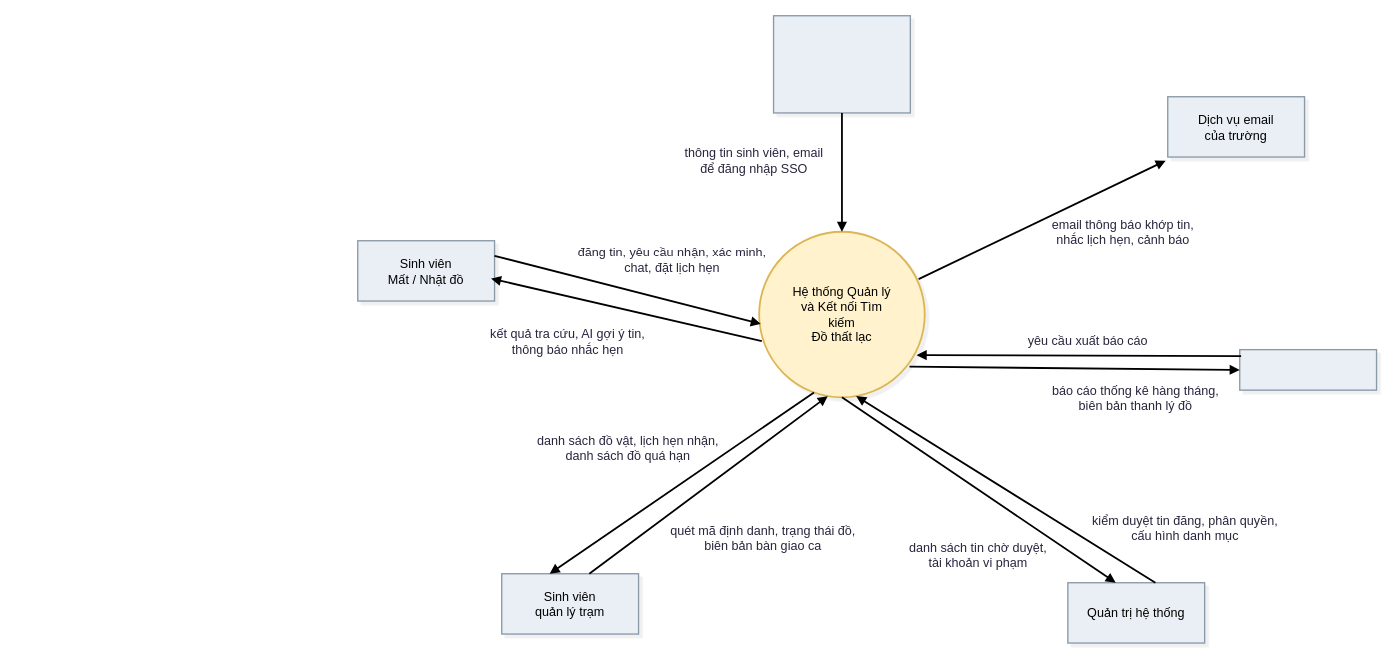
Image size: 1396x663. Some labels were removed from this diagram. Each missing label, with the centre of its shape:
Hệ thống Quản lý của trường: the point at 843,66
Phòng CTSV: the point at 1309,371
